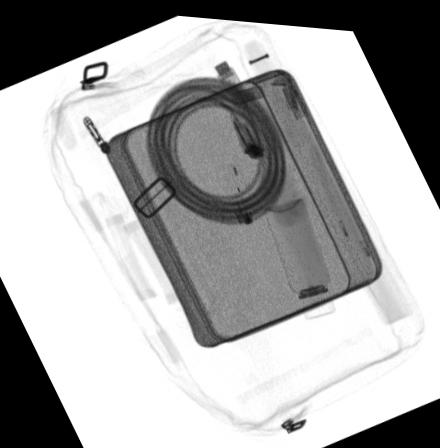Lighter: (227, 109, 270, 156)
Sprayer: (263, 190, 337, 313)
